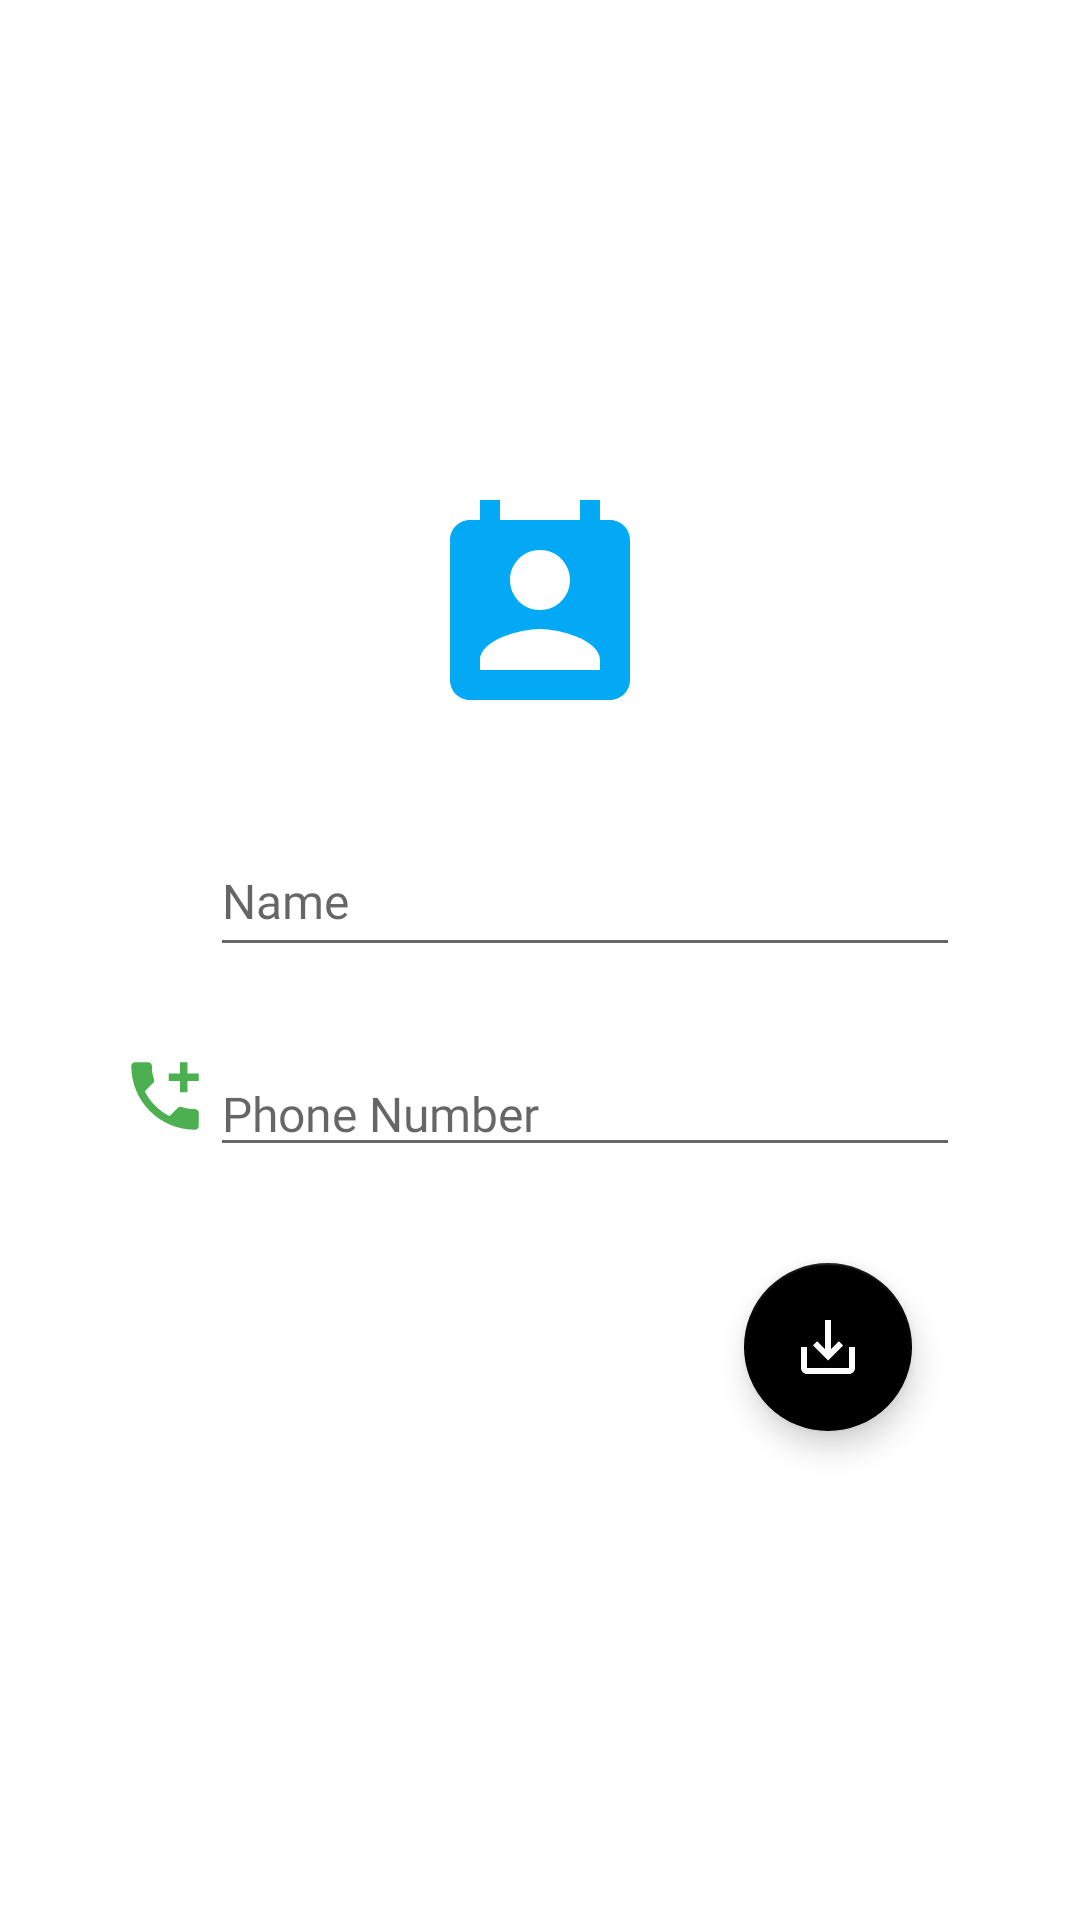

Named icons in this screenshot (1080 x 1920) and their bounding boxes, {"left": x1, "top": y1, "right": x2, "bottom": y2}:
add call: {"left": 131, "top": 1062, "right": 199, "bottom": 1130}
perm contact calendar: {"left": 450, "top": 500, "right": 630, "bottom": 700}
save: {"left": 744, "top": 1263, "right": 912, "bottom": 1431}
